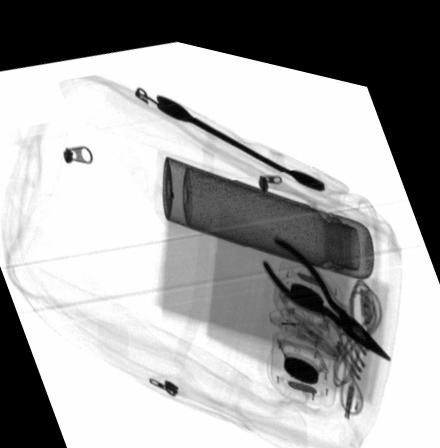Pliers: (259, 223, 392, 344)
Wrench: (157, 85, 325, 176)
